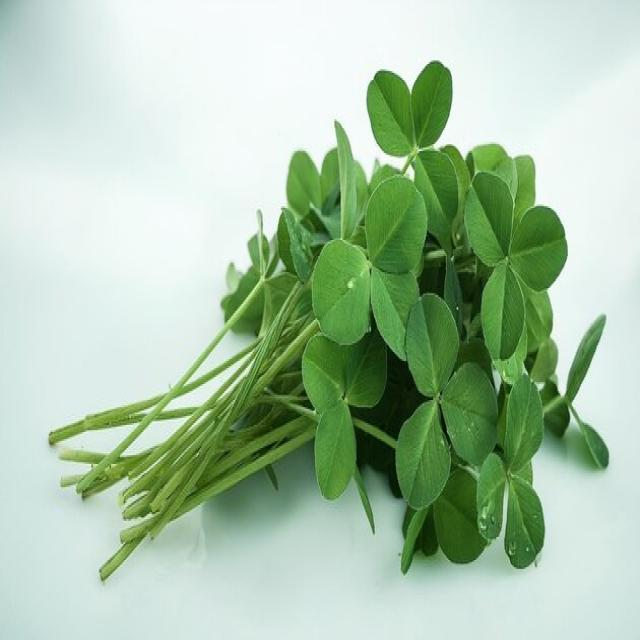Fenugreek: (205, 53, 629, 576)
